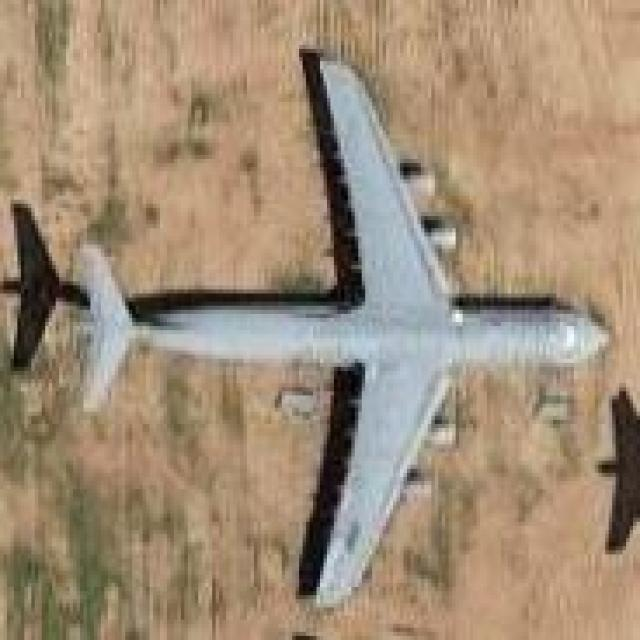C-5_TopDown: (0, 41, 612, 607)
